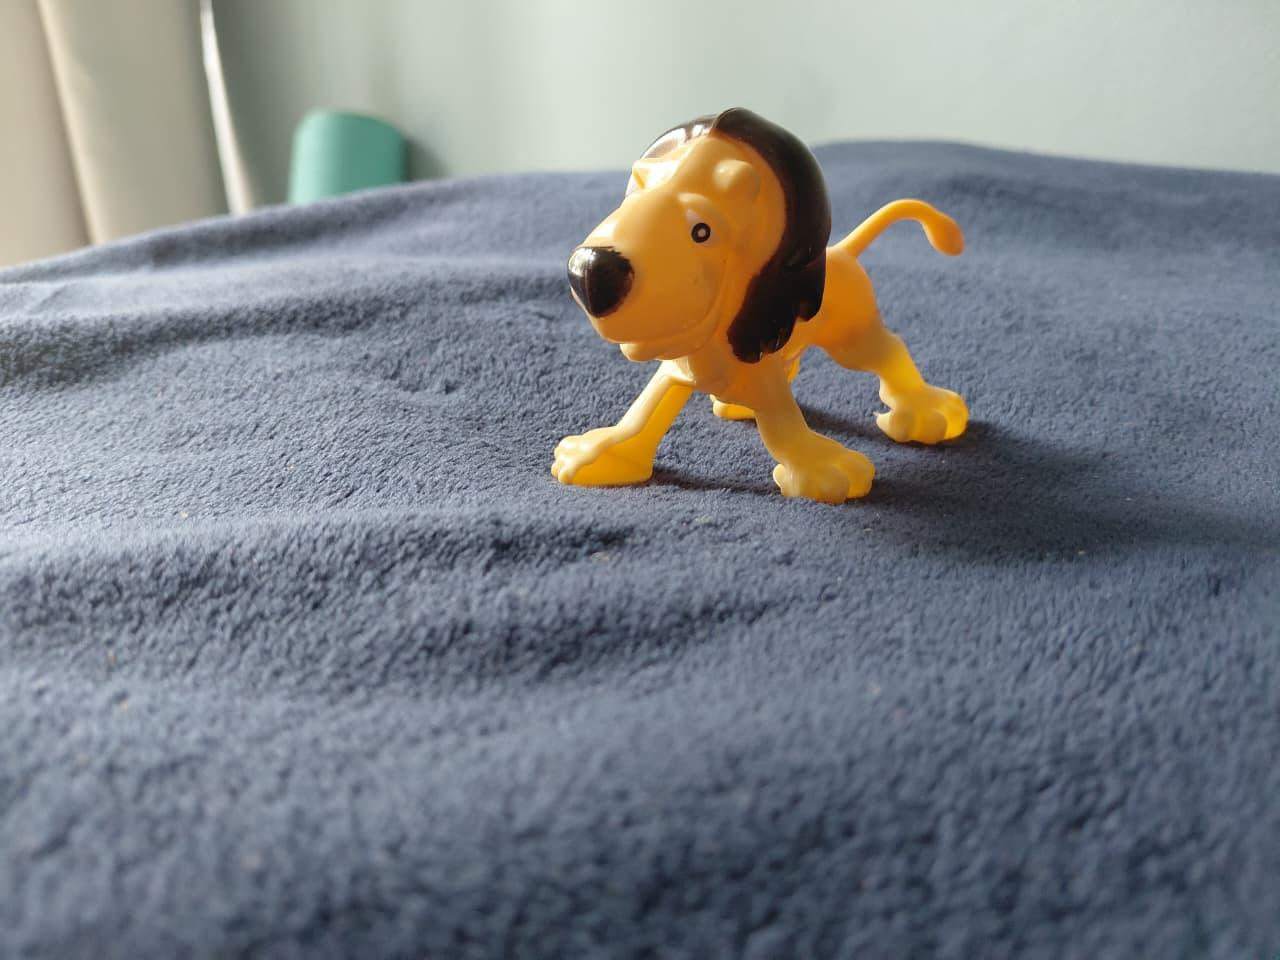lion: (544, 67, 976, 519)
